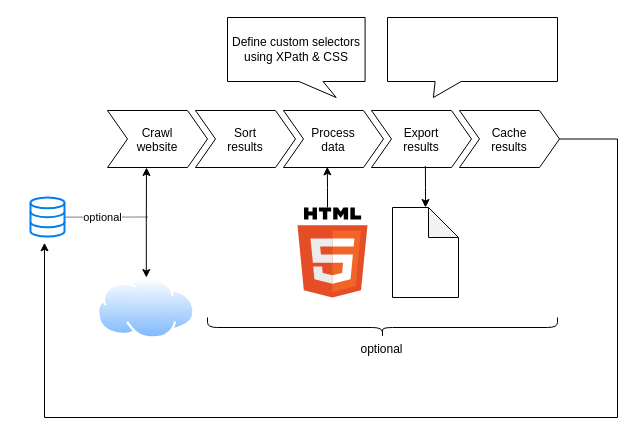
This 643x443 diagram has some shape labels left out. The box of each missing label's shape, as (x1, y1, x2, y2) in pixels:
Build any custom exporter you need, i.e. sending to an API: (386, 16, 558, 98)
CSV JSON HTML: (392, 206, 458, 298)
Disk Cache: (29, 196, 65, 237)
WWW: (97, 277, 195, 338)
